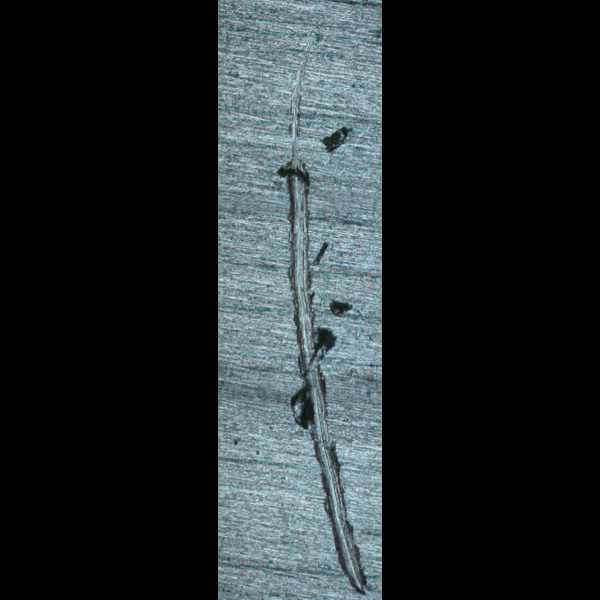d: (273, 15, 372, 596)
